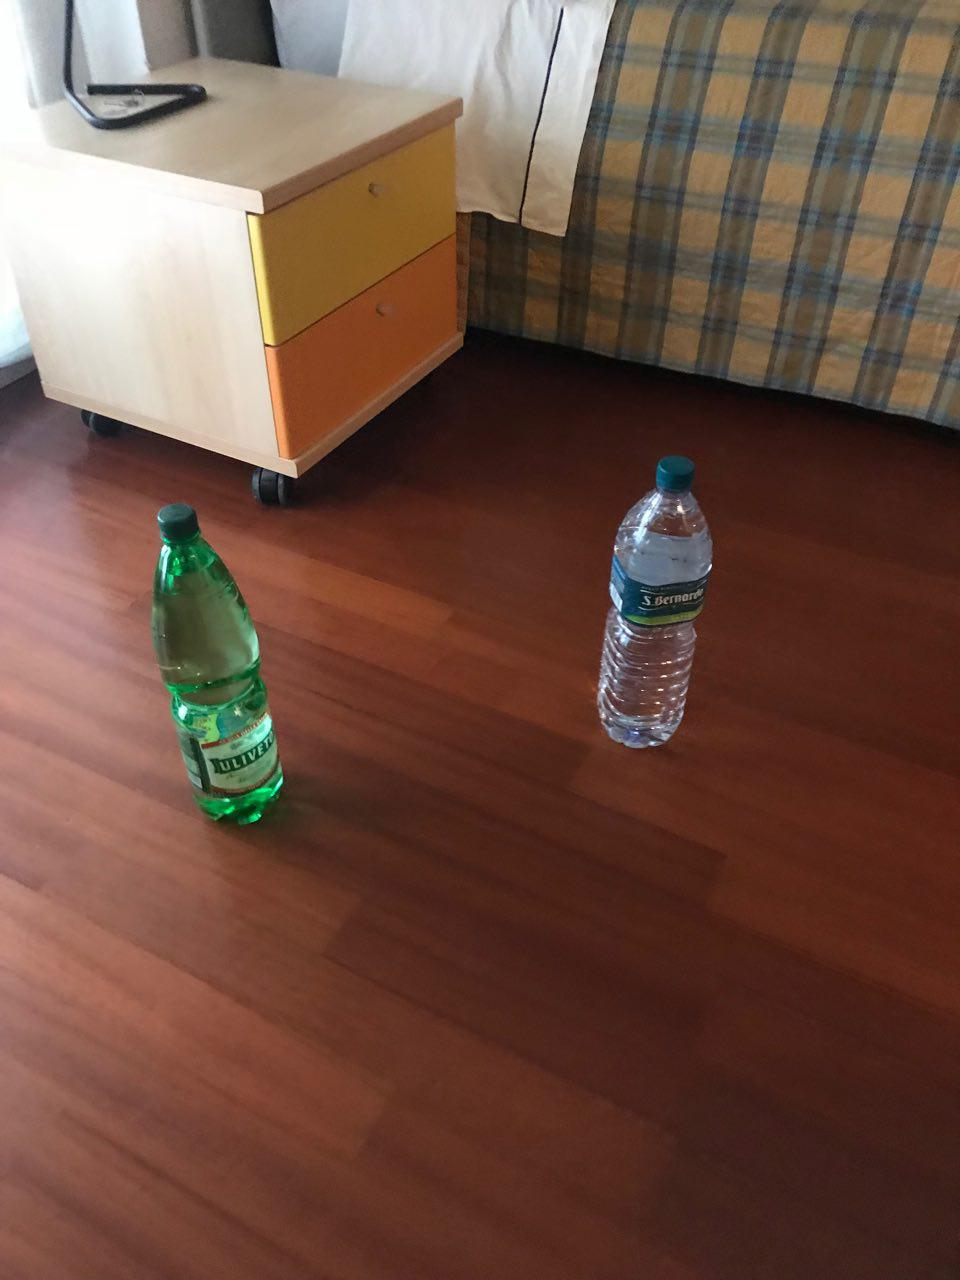san_bernardo: (596, 455, 713, 749)
